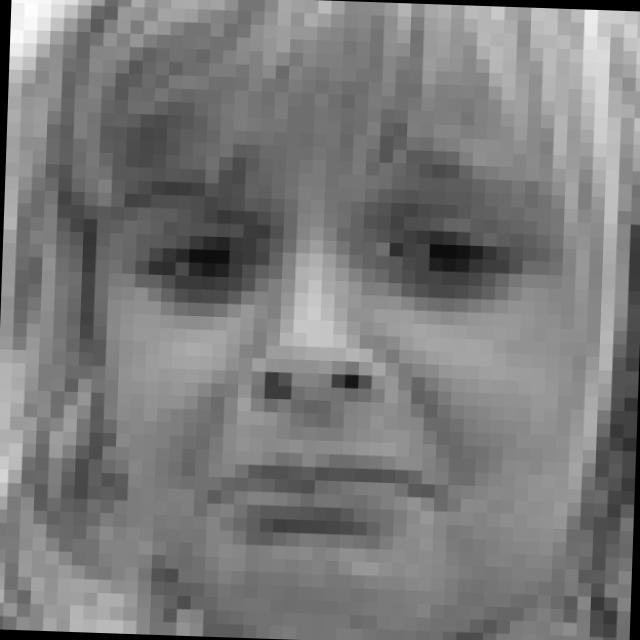sad: (104, 126, 570, 556)
